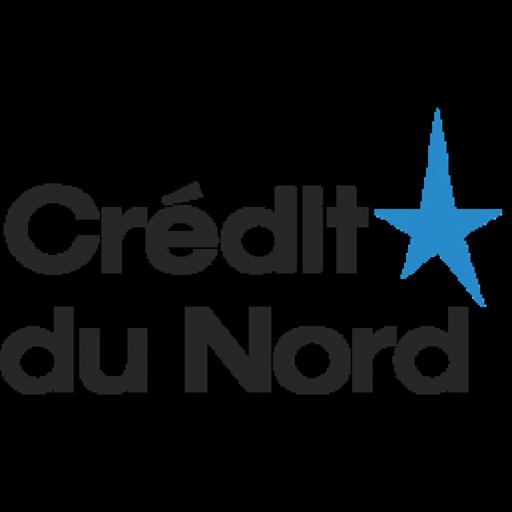Credit du Nord: (0, 98, 512, 414)
